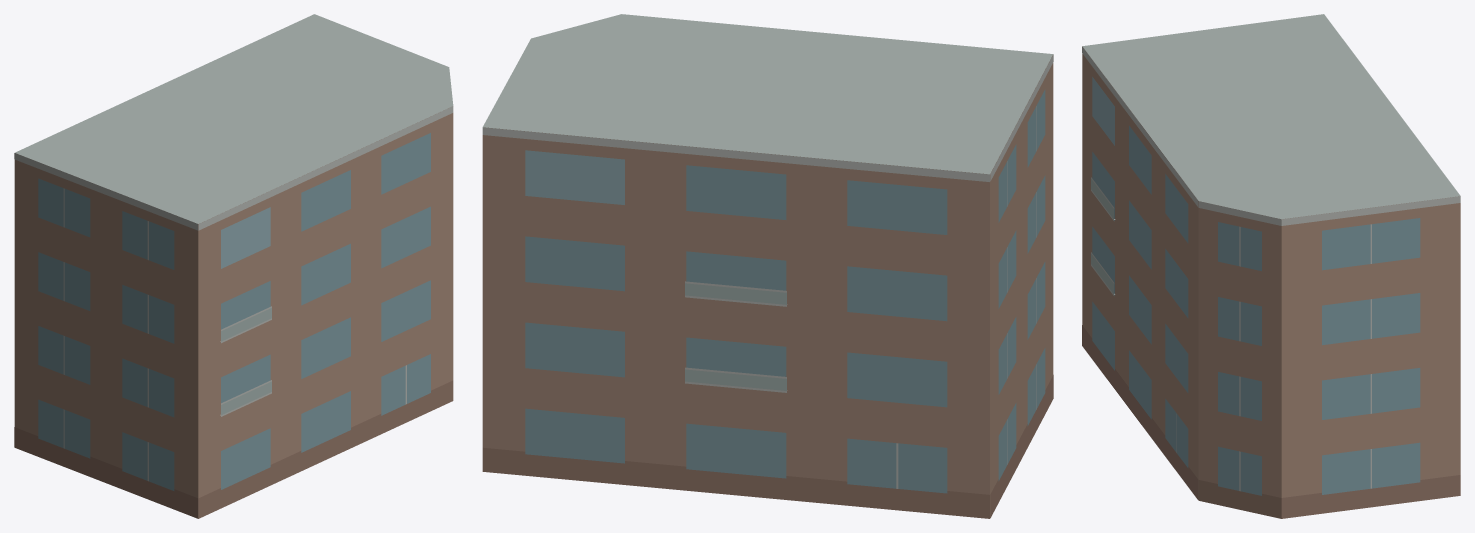
The model's file is survey-upis-32902678.glb.
3 renders of one model, left to right at view 1: azimuth 30°, elevation 25°; view 2: azimuth 150°, elevation 25°; view 3: azimuth 270°, elevation 25°, orthographic. The views are drawn at different scales.
Visible parts, largest first — view 1: survey-upis-32902678.tmp; view 2: survey-upis-32902678.tmp; view 3: survey-upis-32902678.tmp.
Part boxes in pixels (x1=…): survey-upis-32902678.tmp: x1=14, y1=14, x2=453, y2=518; survey-upis-32902678.tmp: x1=482, y1=14, x2=1053, y2=518; survey-upis-32902678.tmp: x1=1082, y1=14, x2=1460, y2=518.
Size of the model in its own units: 15.8 by 10.75 by 12.32.
